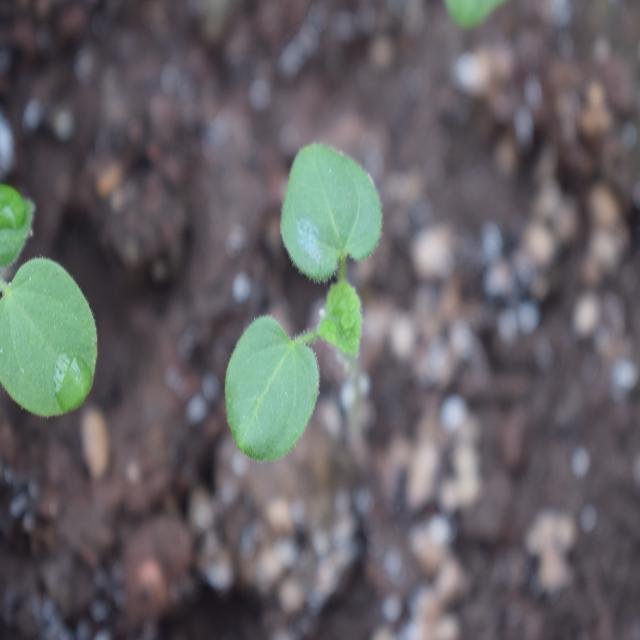abutilon theophrasti: (207, 127, 394, 459)
